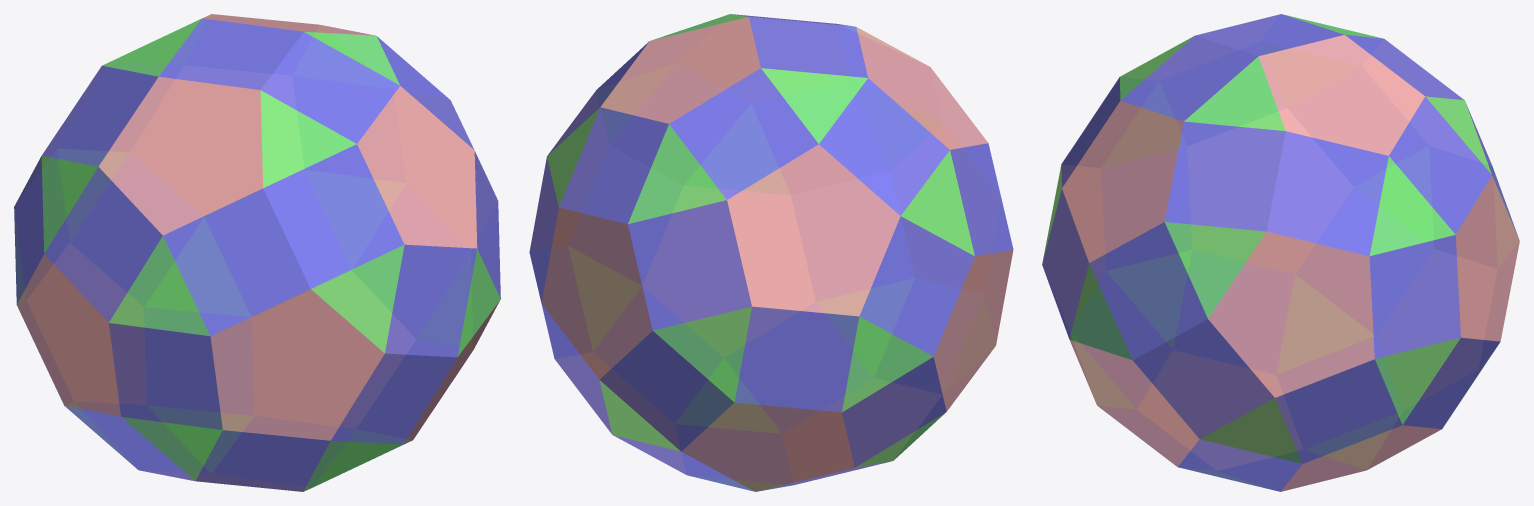
Rendered from j72_gyrate_rhombicosidodecahedron.obj.
The picture shows the model from 3 angles, left to right: view 1: azimuth 30°, elevation 25°; view 2: azimuth 150°, elevation 25°; view 3: azimuth 270°, elevation 25°; orthographic projection. The views are drawn at different scales.
Bounding box in the file's own units: 1.95 × 1.96 × 2.
